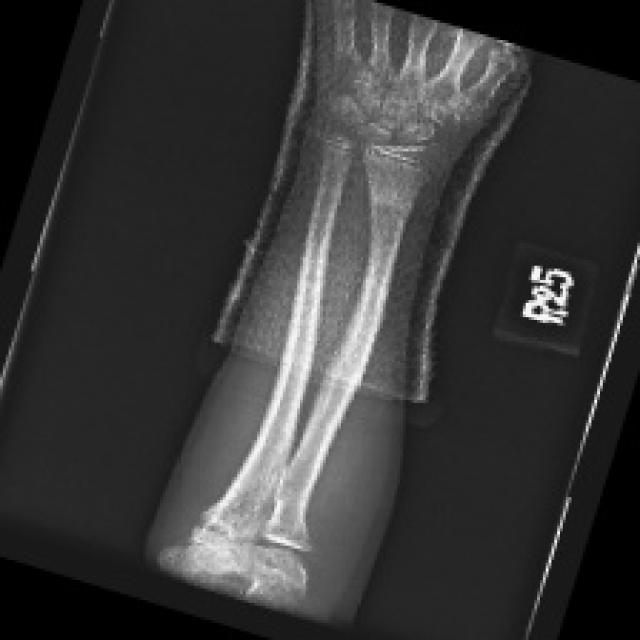fracture: (316, 284, 392, 460)
